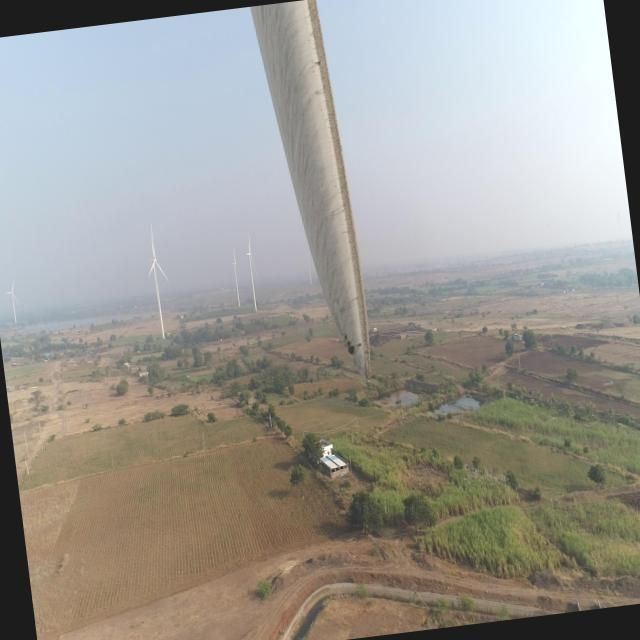Oil LEAKAGE: (243, 4, 372, 357), (344, 333, 358, 352)
